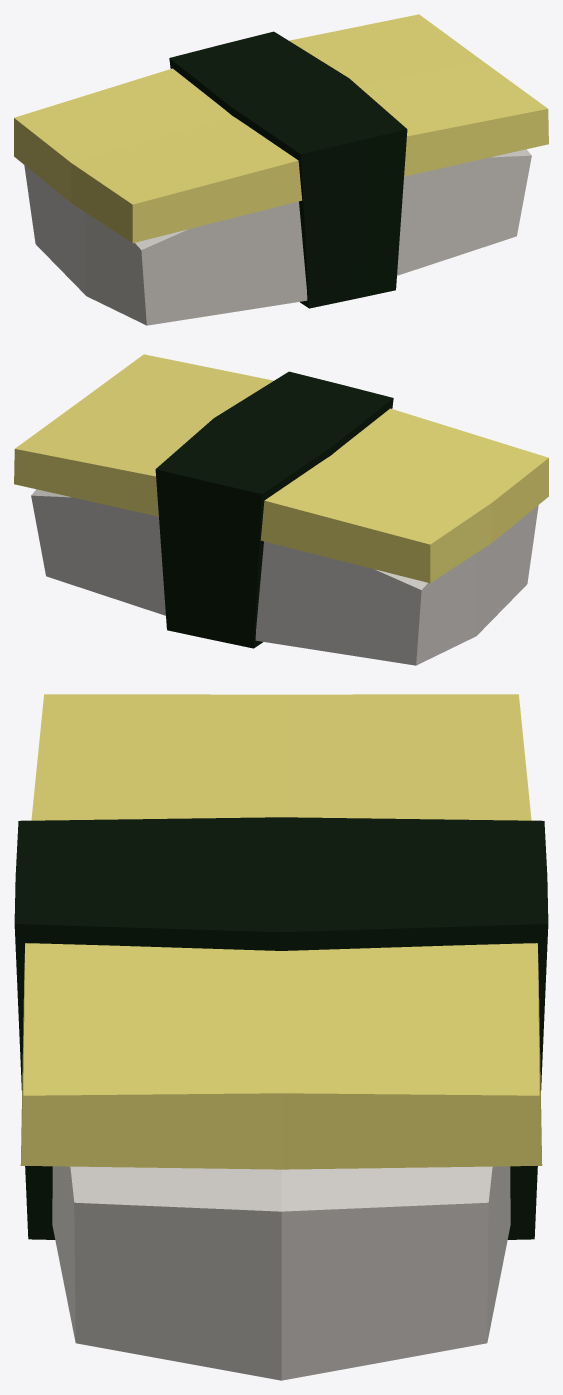
Rendered from niguiriTamagoWithNori.fbx.
3 views of the same model, one above another, from view 1: azimuth 30°, elevation 25°; view 2: azimuth 150°, elevation 25°; view 3: azimuth 270°, elevation 25° (orthographic). The views are drawn at different scales.
Visible parts, largest first — view 1: niguiriTamagoWithNori; view 2: niguiriTamagoWithNori; view 3: niguiriTamagoWithNori.
Boxes of the visible parts, x1,y1,x2,y2 form: niguiriTamagoWithNori: (14, 14, 548, 325); niguiriTamagoWithNori: (14, 354, 548, 665); niguiriTamagoWithNori: (14, 694, 548, 1380).
Bounding box in the file's own units: 9.9 × 3.61 × 5.4.
Materials: 1 (1 with a texture image).
